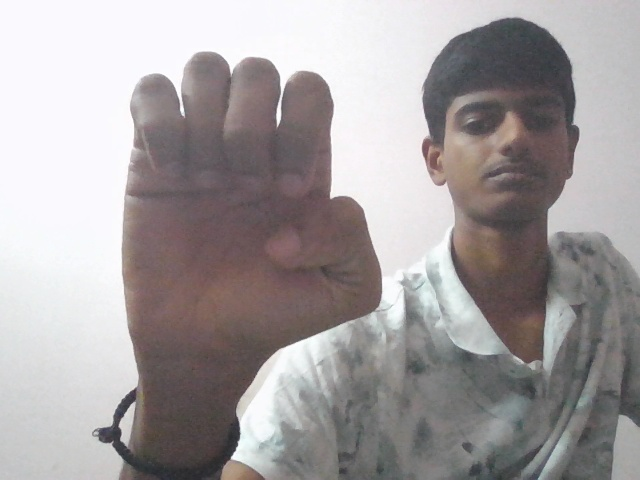yes: (99, 37, 390, 411)
